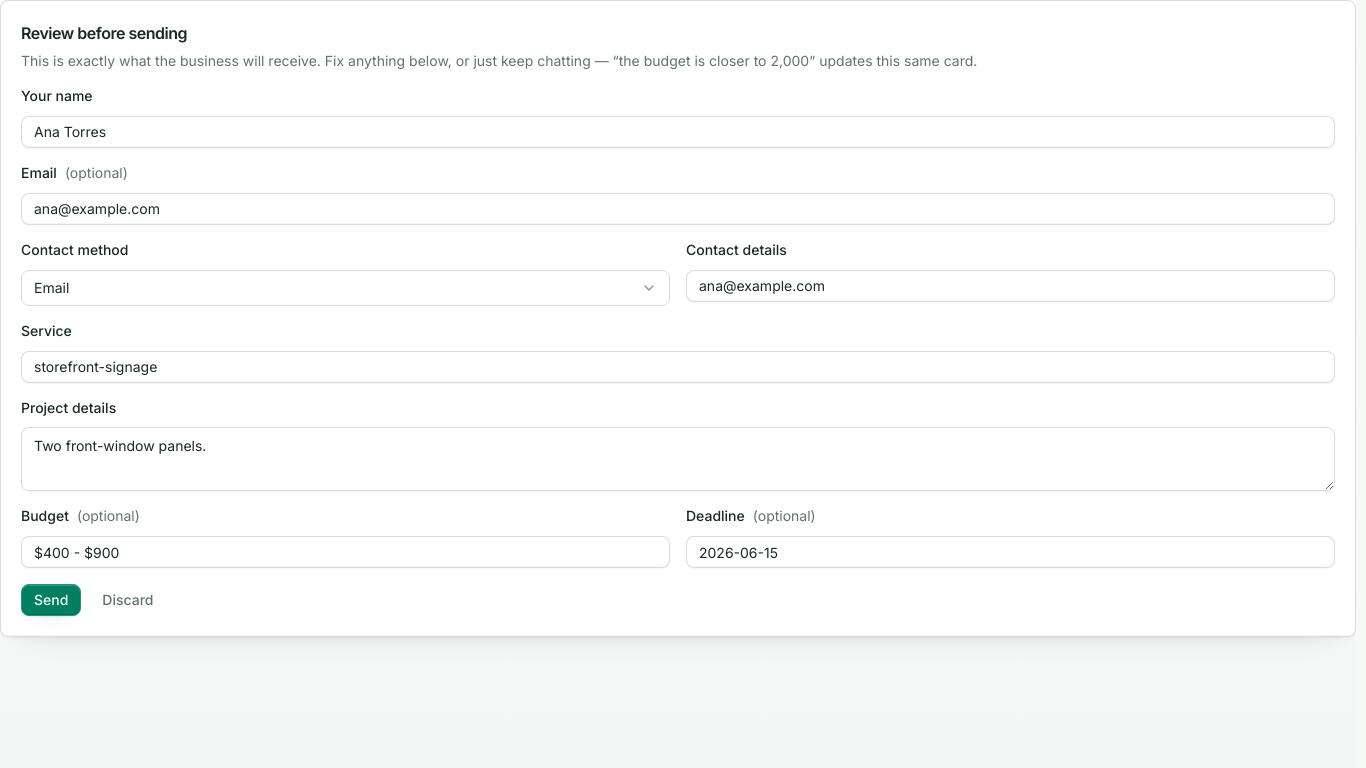
Scenario: ProposedInquiryCard › surfaces a validation message for a bad value
Step 1. Clear the field labelled "Your name" → point(678, 132), box [21,116,1335,148]
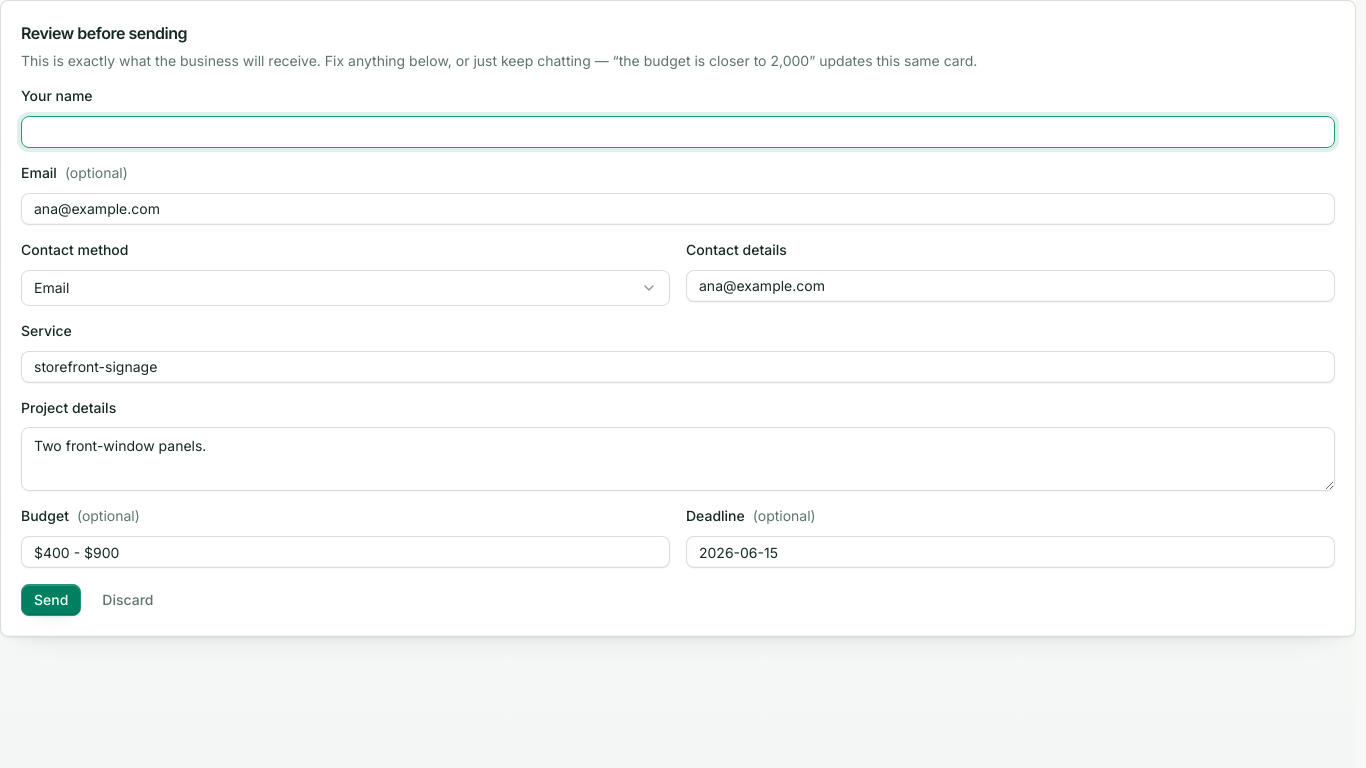
Step 2. Click the button "Send" → point(51, 600), box [21,584,81,616]
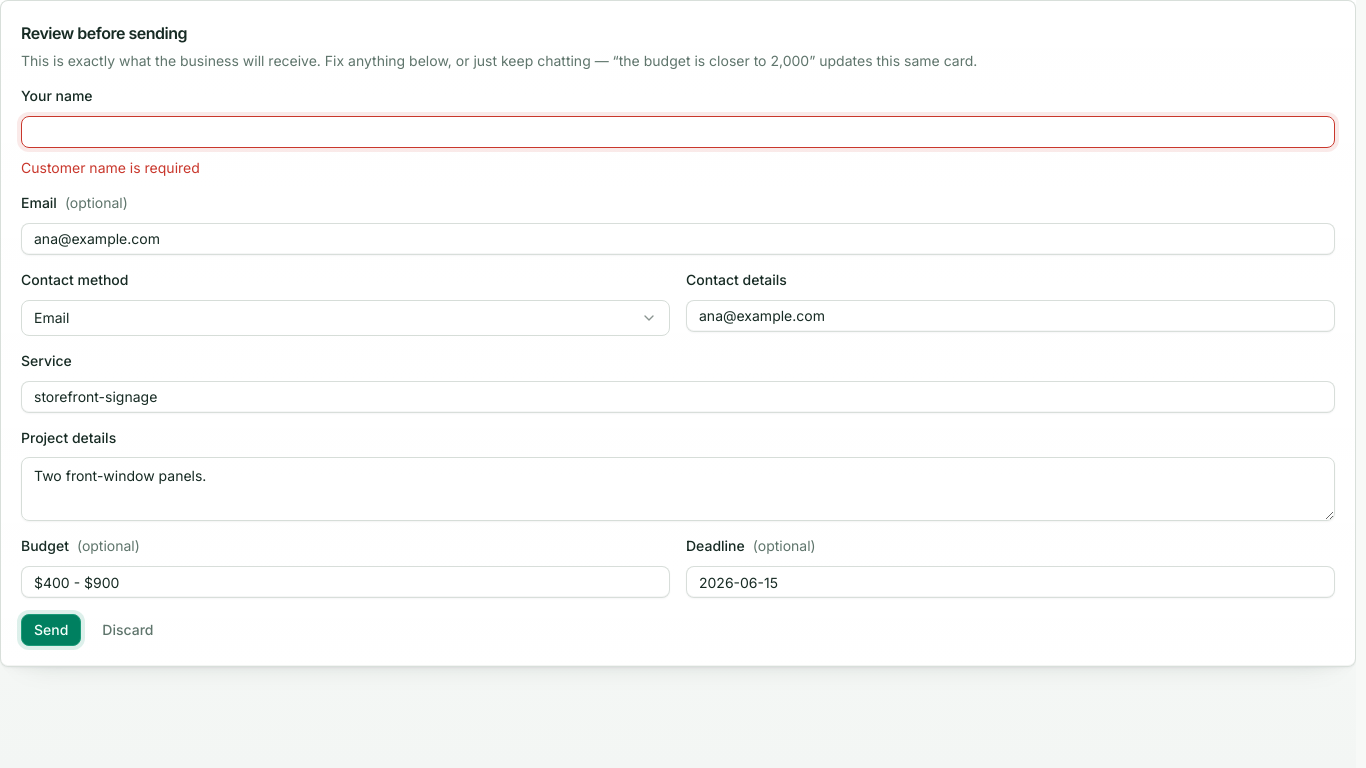
Expected: the text "Customer name is required" is shown, [21,159,200,176]
